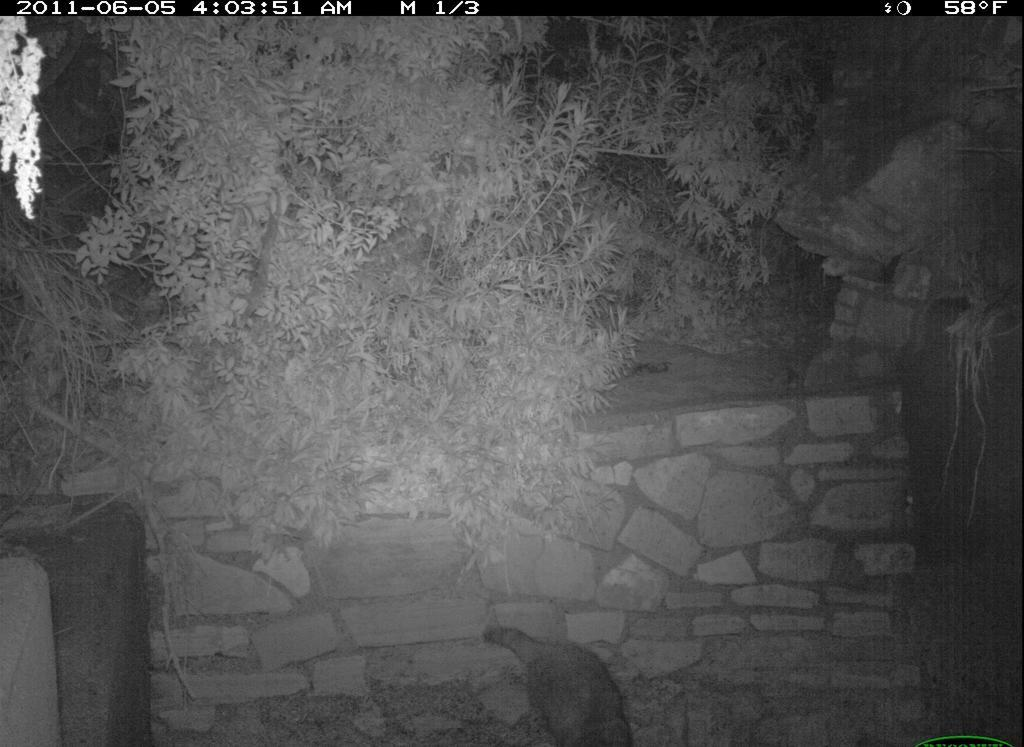raccoon: (483, 612, 647, 744)
